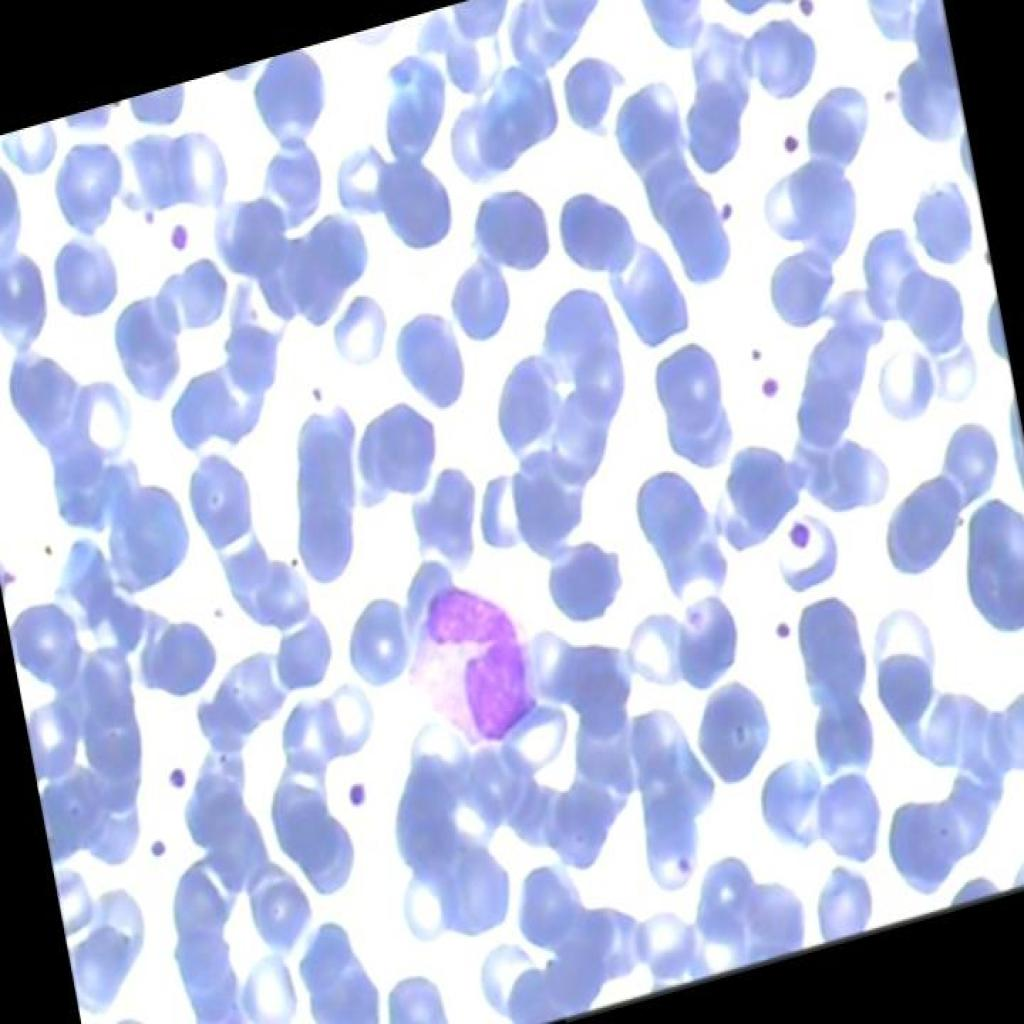Monosit: (387, 554, 566, 788)
Platelet: (774, 494, 826, 562), (134, 825, 178, 887), (288, 366, 336, 418), (340, 770, 378, 834), (154, 203, 194, 263), (146, 750, 192, 802), (707, 194, 741, 247), (770, 118, 806, 166), (760, 601, 794, 647), (752, 364, 784, 412), (741, 332, 769, 372), (128, 194, 154, 231), (788, 0, 818, 23)
